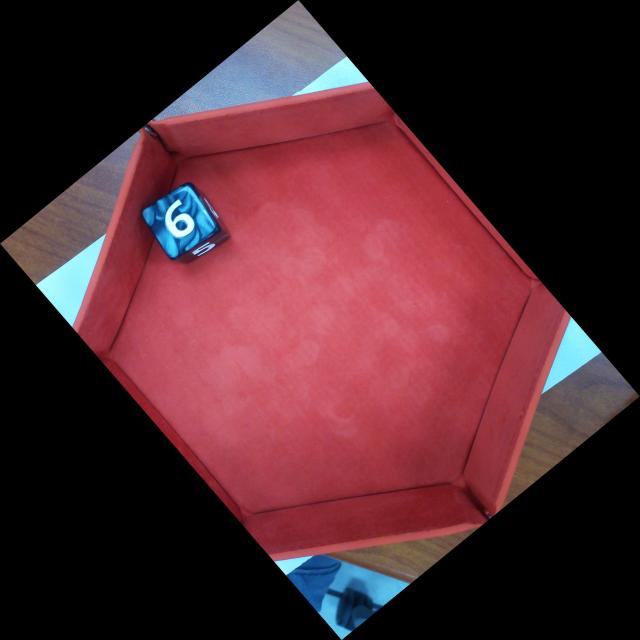dice: (143, 184, 219, 257)
